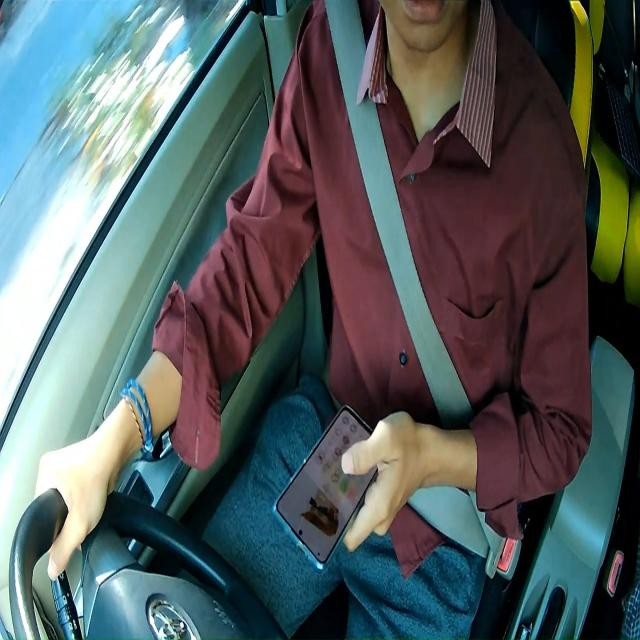phone: (272, 402, 378, 572)
